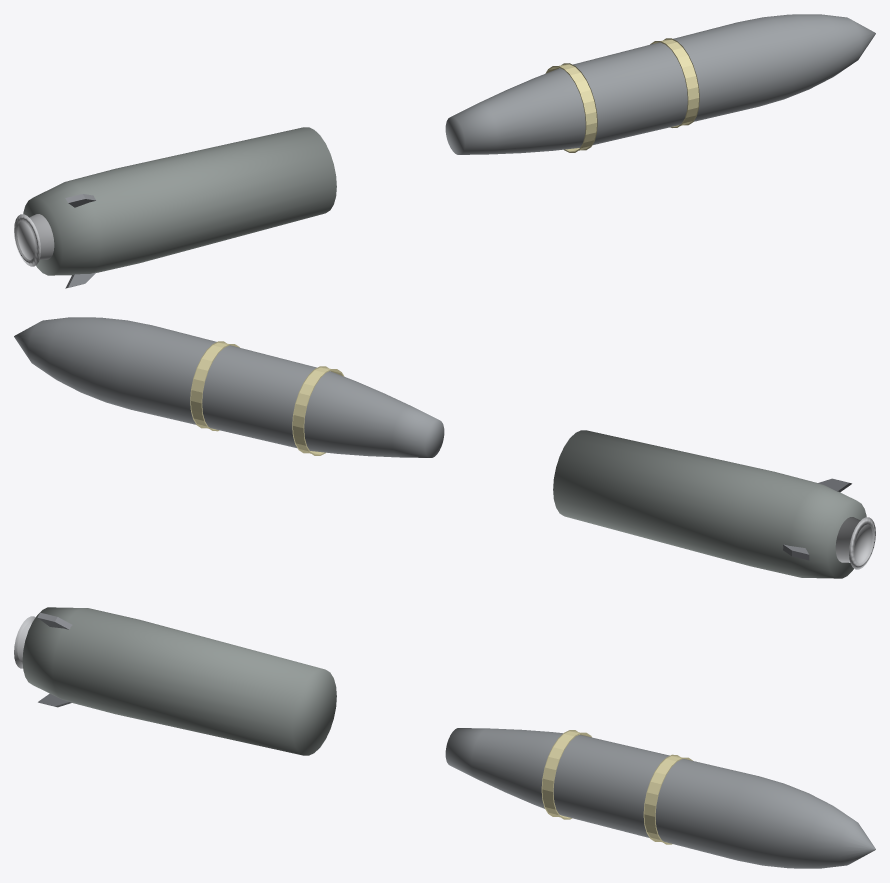
File: CN_ASW_CY1_LOD1.fbx
The picture shows the model from 3 angles, top to bottom: view 1: azimuth 30°, elevation 25°; view 2: azimuth 150°, elevation 25°; view 3: azimuth 330°, elevation 25°; orthographic projection.
Visible parts, largest first — view 1: WPN_CN_ASW_CY1_LOD1_Body, WPN_CN_ASW_CY1_LOD1_Tail, WPN_CN_ASW_CY1_LOD1_Marking, WPN_CN_ASW_CY1_LOD1_Propulsor; view 2: WPN_CN_ASW_CY1_LOD1_Body, WPN_CN_ASW_CY1_LOD1_Tail, WPN_CN_ASW_CY1_LOD1_Marking, WPN_CN_ASW_CY1_LOD1_Propulsor, WPN_CN_ASW_CY1_LOD1_Fins; view 3: WPN_CN_ASW_CY1_LOD1_Body, WPN_CN_ASW_CY1_LOD1_Tail, WPN_CN_ASW_CY1_LOD1_Marking, WPN_CN_ASW_CY1_LOD1_Fins.
Boxes of the visible parts, box(x1,y1,x2,y2) form: WPN_CN_ASW_CY1_LOD1_Body: box(445, 14, 875, 154); WPN_CN_ASW_CY1_LOD1_Tail: box(23, 127, 336, 275); WPN_CN_ASW_CY1_LOD1_Marking: box(545, 38, 699, 152); WPN_CN_ASW_CY1_LOD1_Propulsor: box(14, 214, 54, 266); WPN_CN_ASW_CY1_LOD1_Body: box(14, 317, 444, 457); WPN_CN_ASW_CY1_LOD1_Tail: box(553, 430, 866, 578); WPN_CN_ASW_CY1_LOD1_Marking: box(190, 341, 344, 455); WPN_CN_ASW_CY1_LOD1_Propulsor: box(835, 517, 875, 569); WPN_CN_ASW_CY1_LOD1_Fins: box(783, 478, 851, 560); WPN_CN_ASW_CY1_LOD1_Body: box(445, 728, 875, 868); WPN_CN_ASW_CY1_LOD1_Tail: box(22, 607, 336, 755); WPN_CN_ASW_CY1_LOD1_Marking: box(541, 730, 692, 844); WPN_CN_ASW_CY1_LOD1_Fins: box(37, 612, 72, 707).
Bounding box in the file's own units: 6 × 0.6395 × 0.6107.
